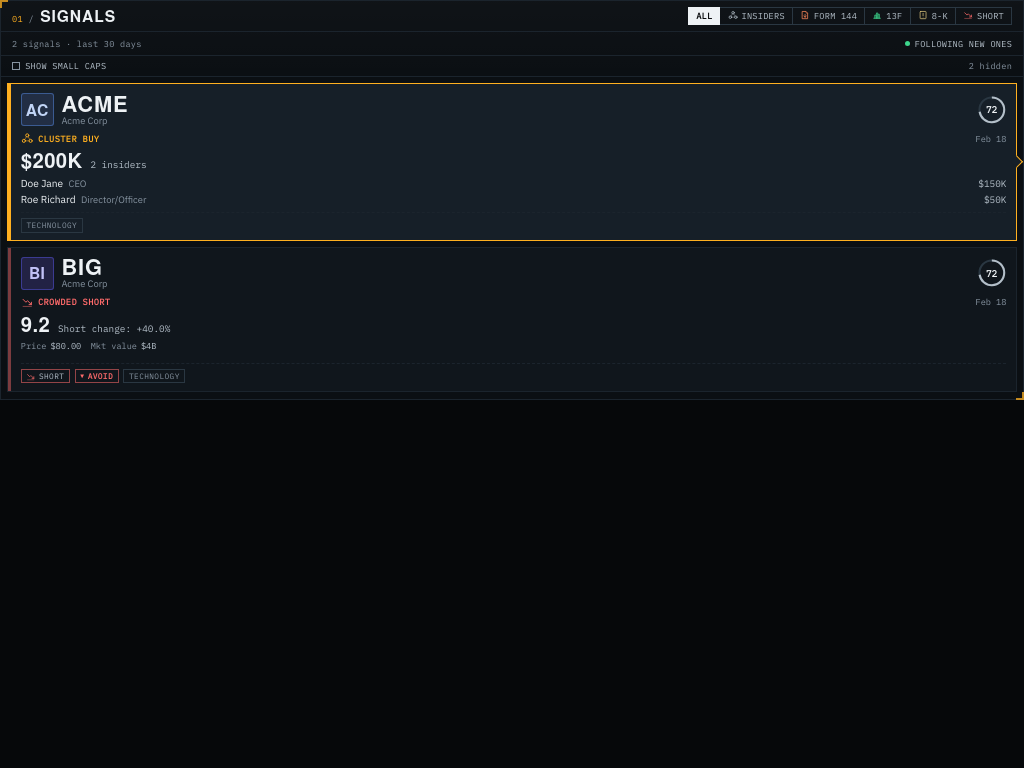
Test: small caps on screen › the toggle reveals the hidden avoid signals and says how many are hidden
Check: the number of list items is 2, box x1=7 y1=83 x2=1017 y2=241; x1=7 y1=247 x2=1017 y2=392
Check: the text "2 hidden" is shown, box x1=969 y1=60 x2=1012 y2=72
Click the button "Show small caps" at (59, 66), box x1=12 y1=60 x2=106 y2=72
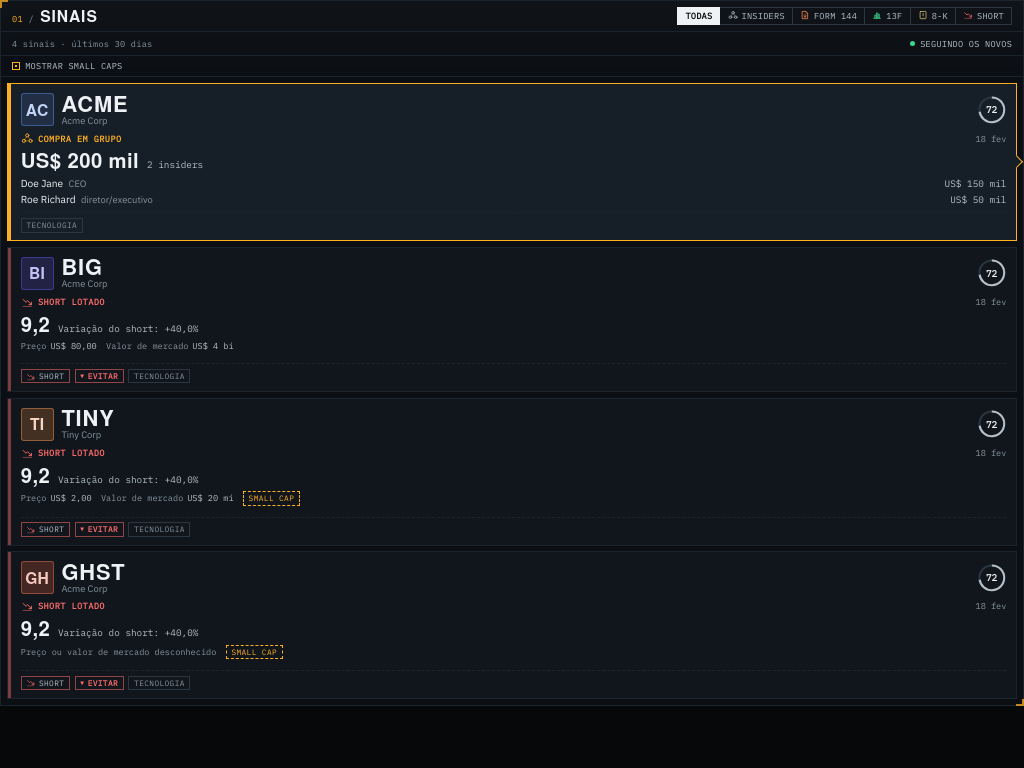
Check: the number of list items is 4, box x1=7 y1=83 x2=1017 y2=241; x1=7 y1=247 x2=1017 y2=392; x1=7 y1=398 x2=1017 y2=546; x1=7 y1=551 x2=1017 y2=699
Check: the text "2 hidden" is gone
